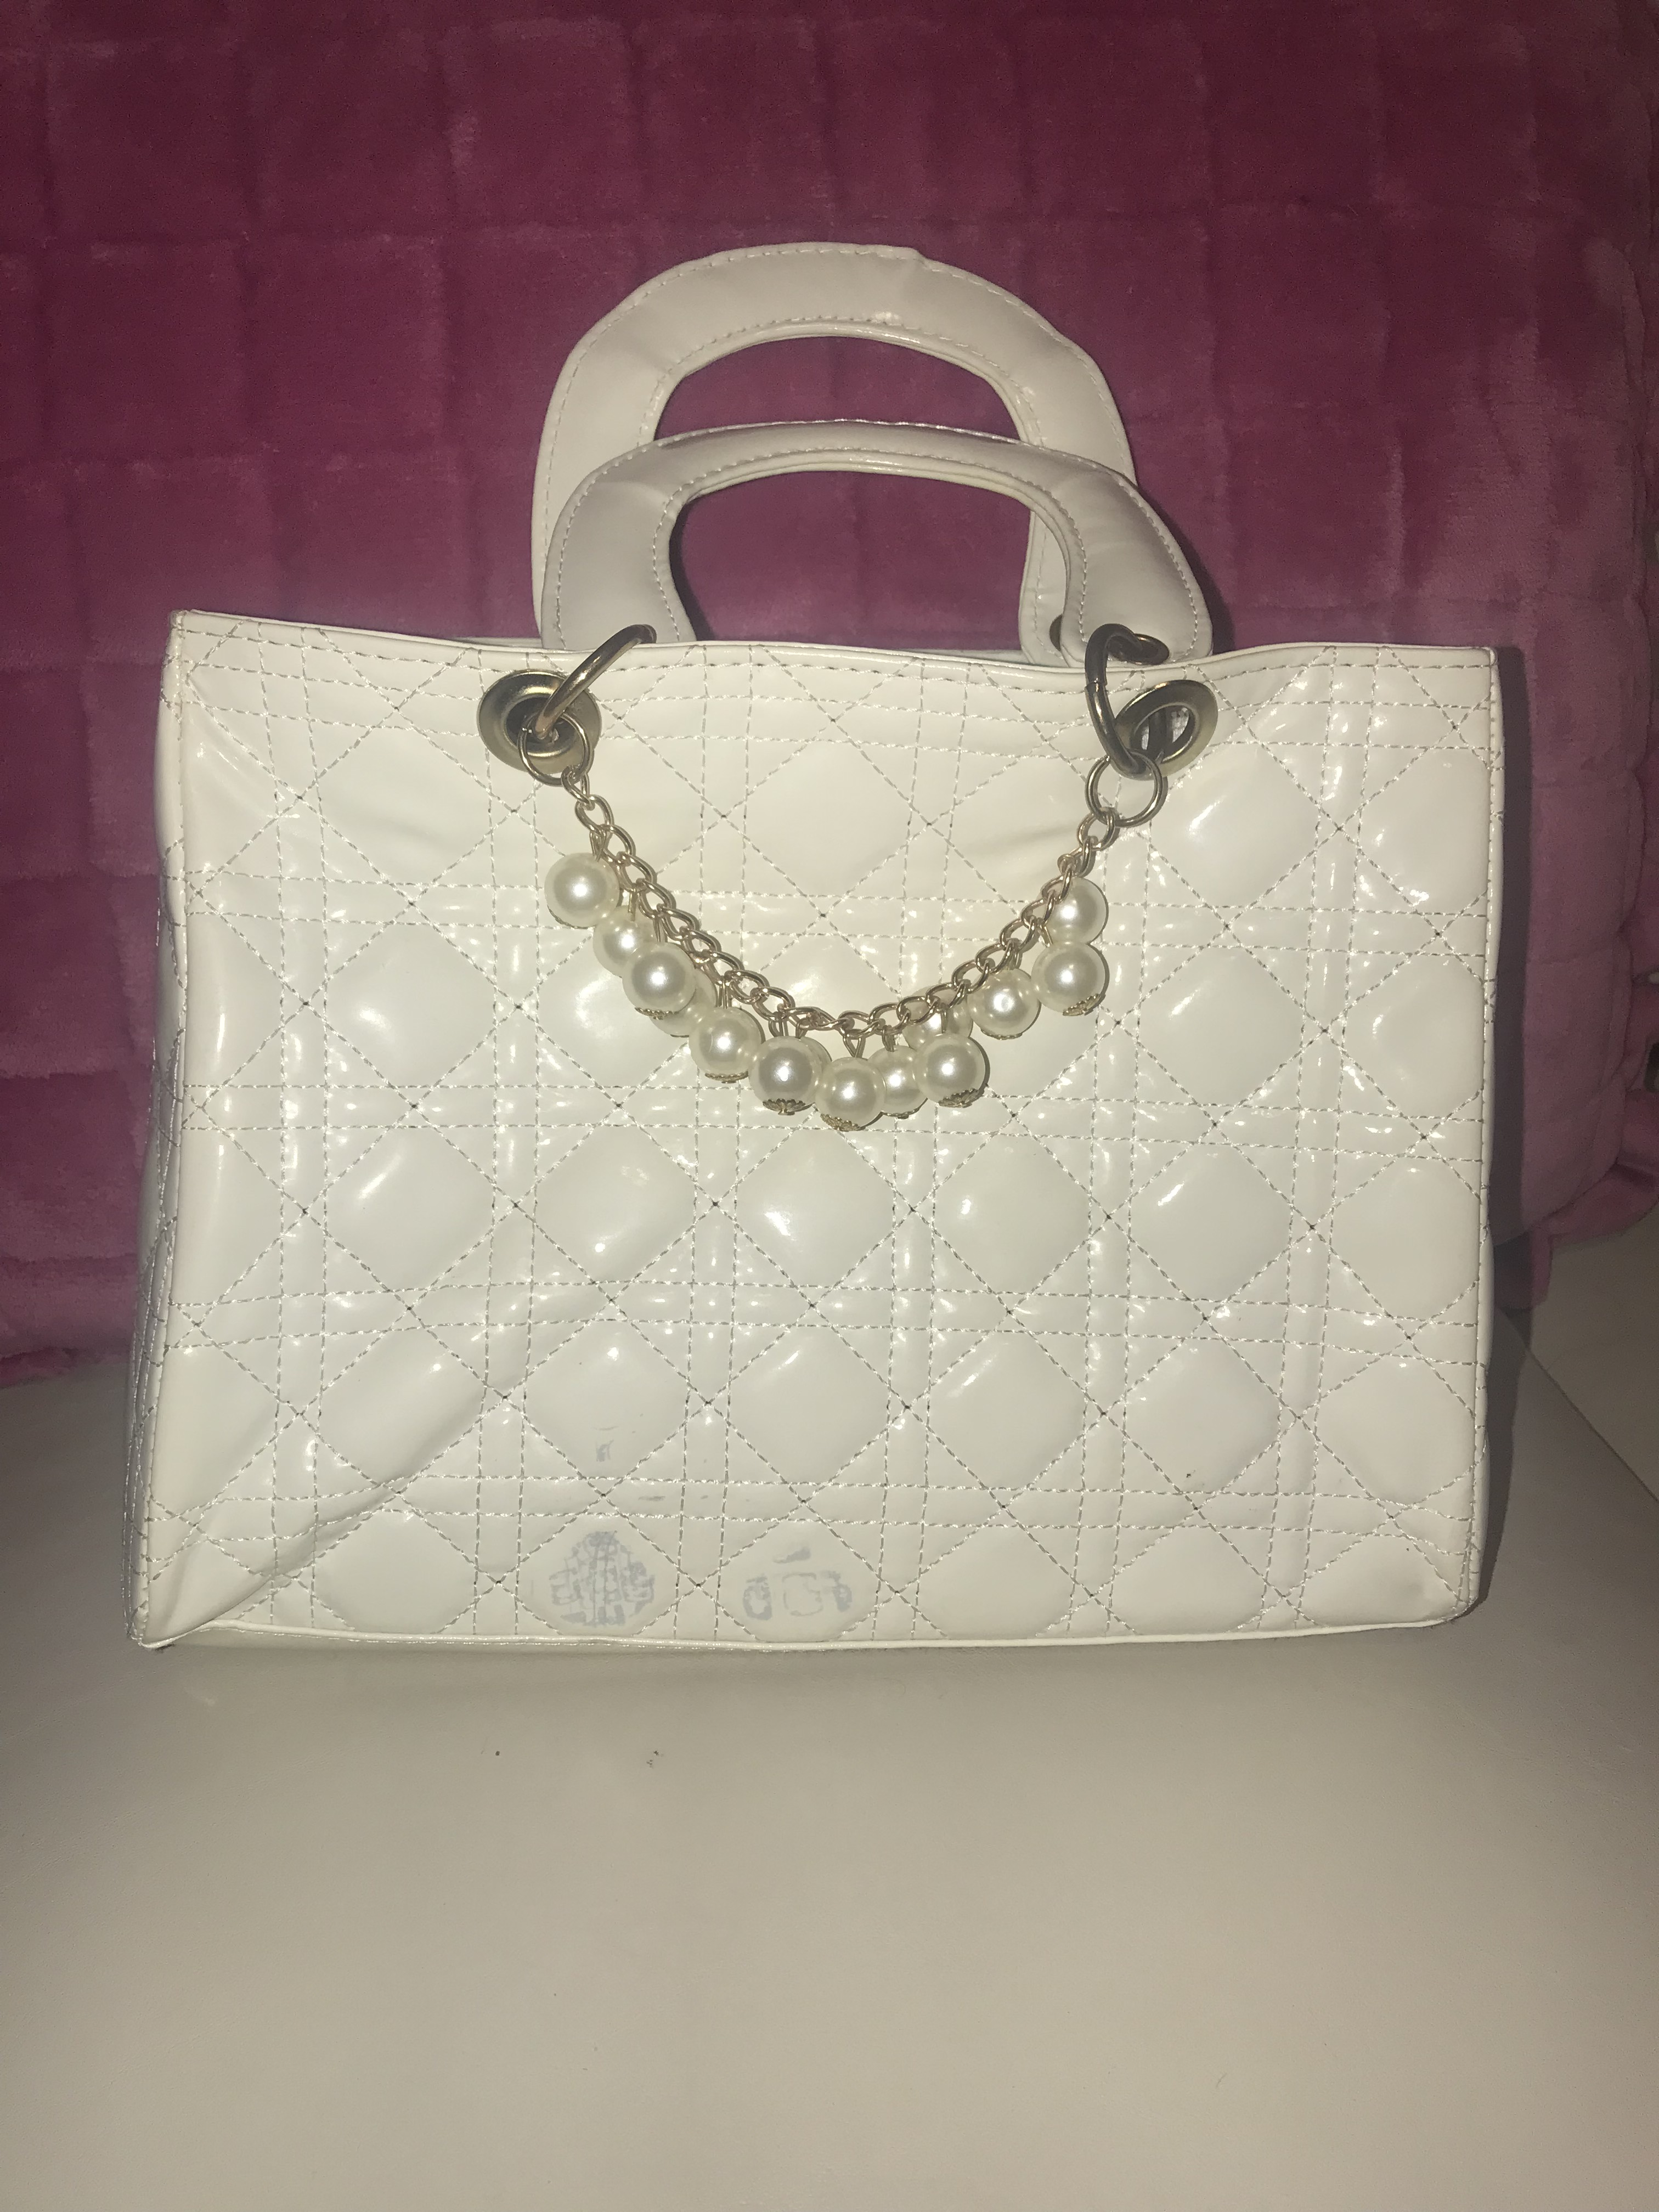cartera: (124, 239, 1514, 1662)
cuero: (281, 1233, 509, 1472)
